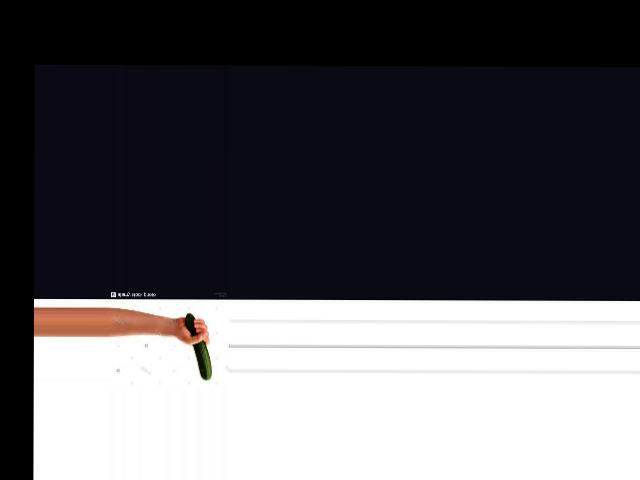cucumber: (186, 313, 212, 379)
